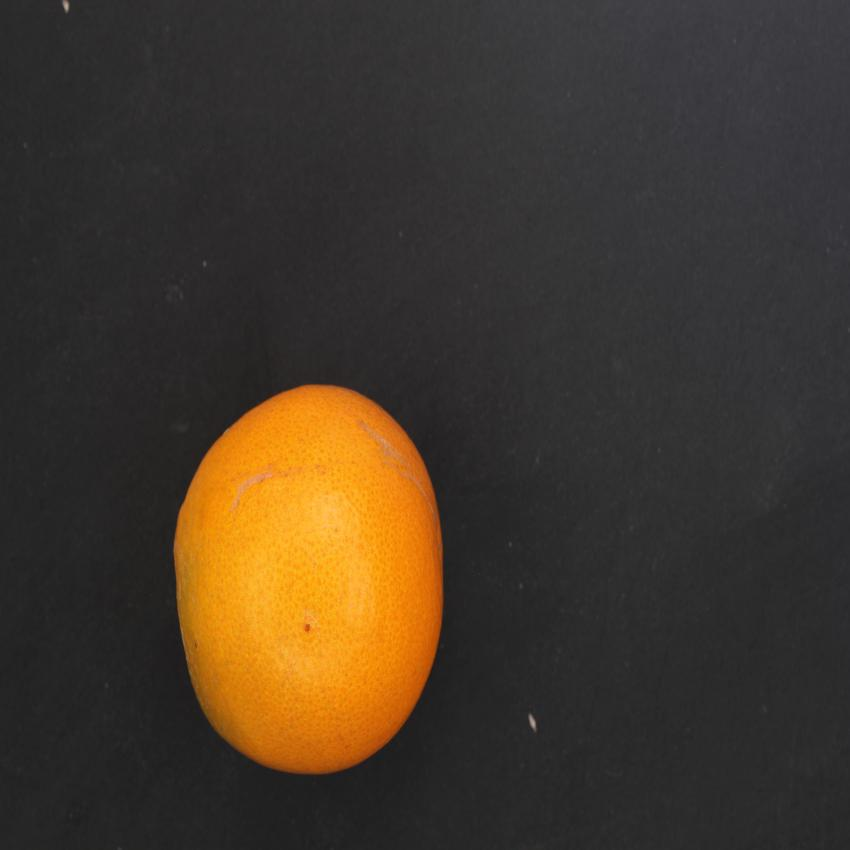Buen estado: (162, 360, 459, 786)
